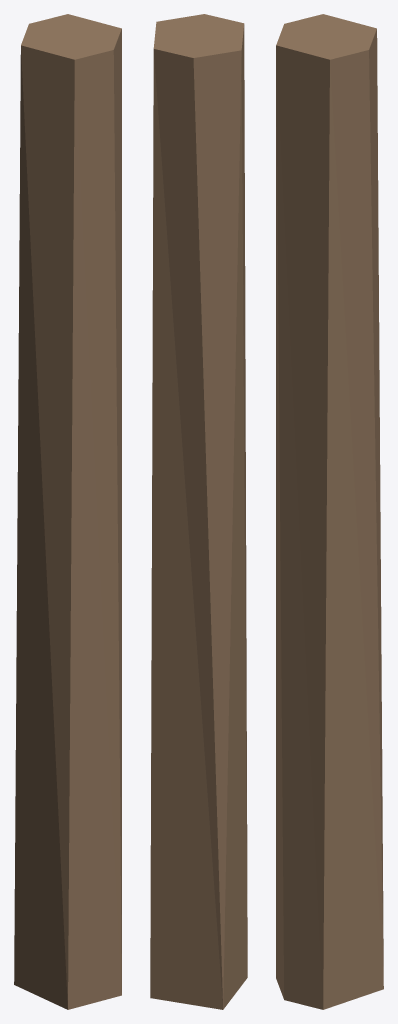
Rendered from harbor.piling.lod1.glb.
The picture shows the model from 3 angles, left to right: view 1: azimuth 90°, elevation 25°; view 2: azimuth 210°, elevation 25°; view 3: azimuth 270°, elevation 25°; orthographic projection.
Parts seen in each view (by area): view 1: Piling; view 2: Piling; view 3: Piling.
Boxes of the visible parts, box(x1,y1,x2,y2) form: Piling: box(14, 14, 121, 1009); Piling: box(150, 14, 247, 1009); Piling: box(276, 14, 383, 1009).
Size of the model in its own units: 0.4135 by 4 by 0.411.
